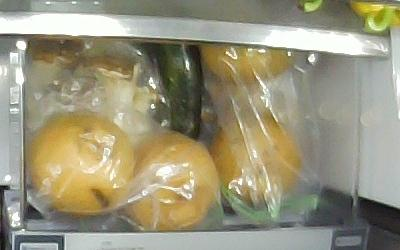pear_vinyl: (26, 109, 135, 214), (123, 130, 215, 232), (210, 113, 298, 197), (198, 44, 294, 83)
